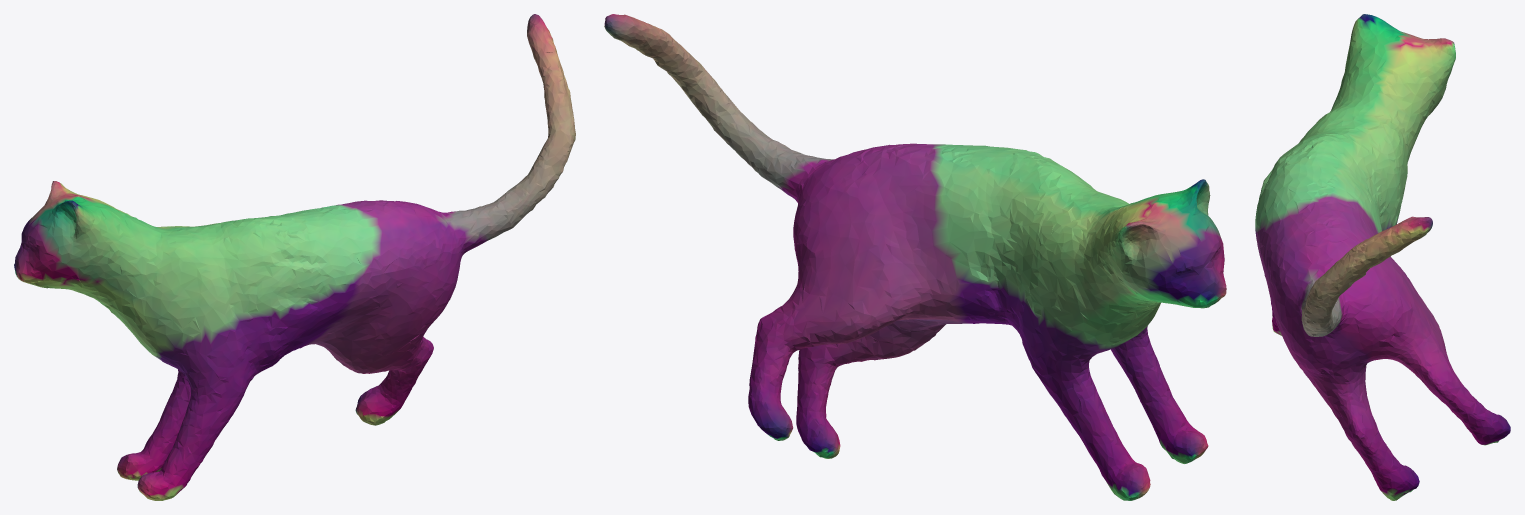
Rendered from cat-5.off.obj.
3 views of the same model, side by side, from view 1: azimuth 30°, elevation 25°; view 2: azimuth 150°, elevation 25°; view 3: azimuth 270°, elevation 25° (orthographic). The views are drawn at different scales.
Bounding box in the file's own units: 1.4 × 0.8911 × 0.5564.
